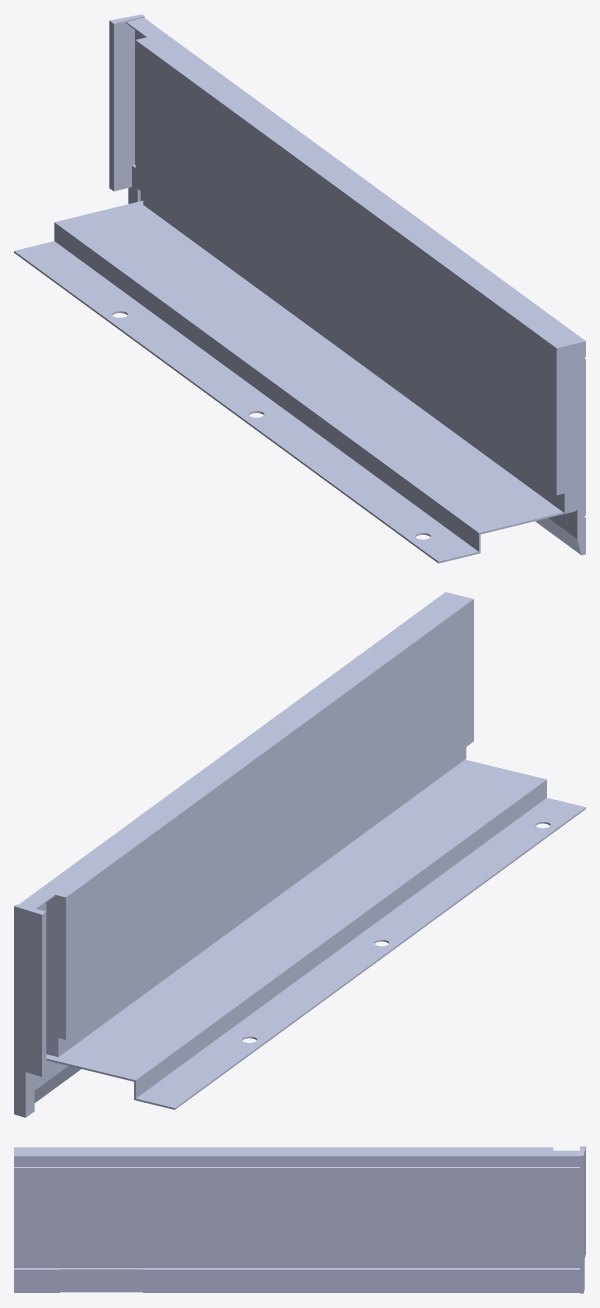
Rendered from lg-kava-M350-m.glb.
3 renders of one model, top to bottom at view 1: azimuth 30°, elevation 25°; view 2: azimuth 150°, elevation 25°; view 3: azimuth 270°, elevation 25°, orthographic. The views are drawn at different scales.
Visible parts, largest first — view 1: 41033843; view 2: 41033843; view 3: 41033843.
Boxes of the visible parts, x1,y1,x2,y2 form: 41033843: (14, 14, 585, 563); 41033843: (14, 592, 585, 1117); 41033843: (14, 1146, 585, 1293).
Bounding box in the file's own units: 0.0653 × 0.0912 × 0.3435.
